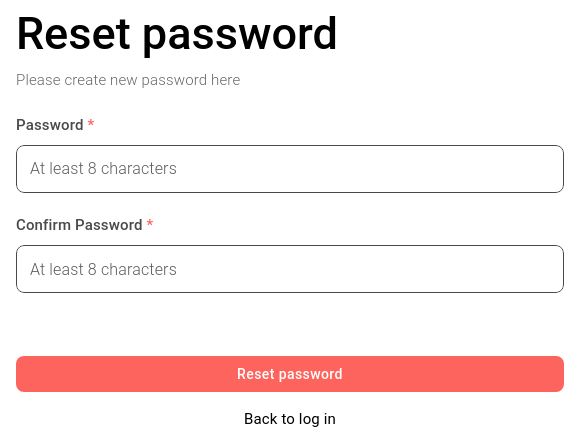
Test: Reset Password Page › shows success message and redirect
Type "12345678" into the password field labelled "Password".
click(290, 169); type("12345678")  # box [16,141,564,197]
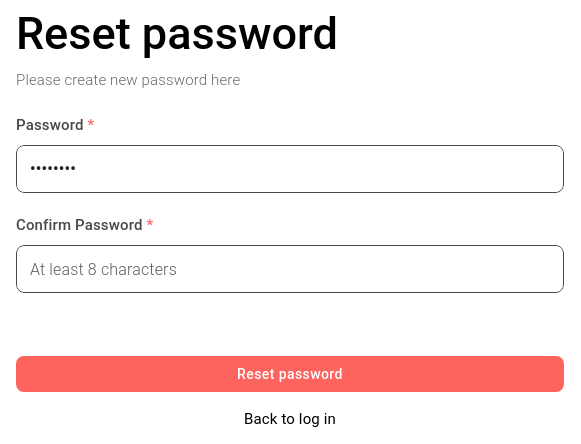
Type "12345678" into the password field labelled "Confirm Password".
click(290, 269); type("12345678")  # box [16,241,564,297]
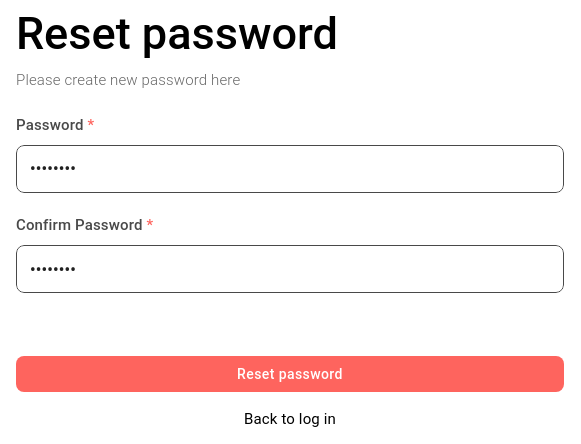
Click the button "Reset password".
click(290, 374)  # box [16,356,564,392]
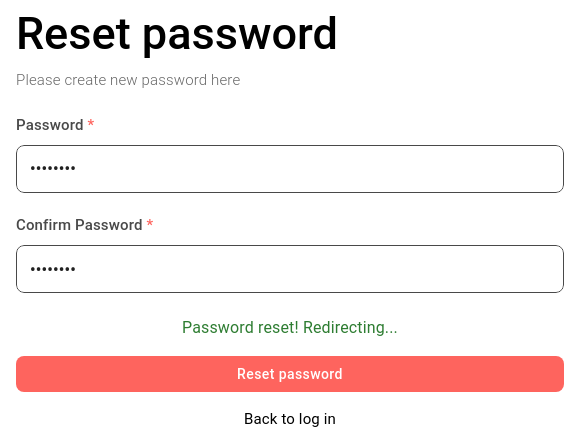
expect the text "Password reset! Redirecting..." is shown: met, box [182,318,398,337]
